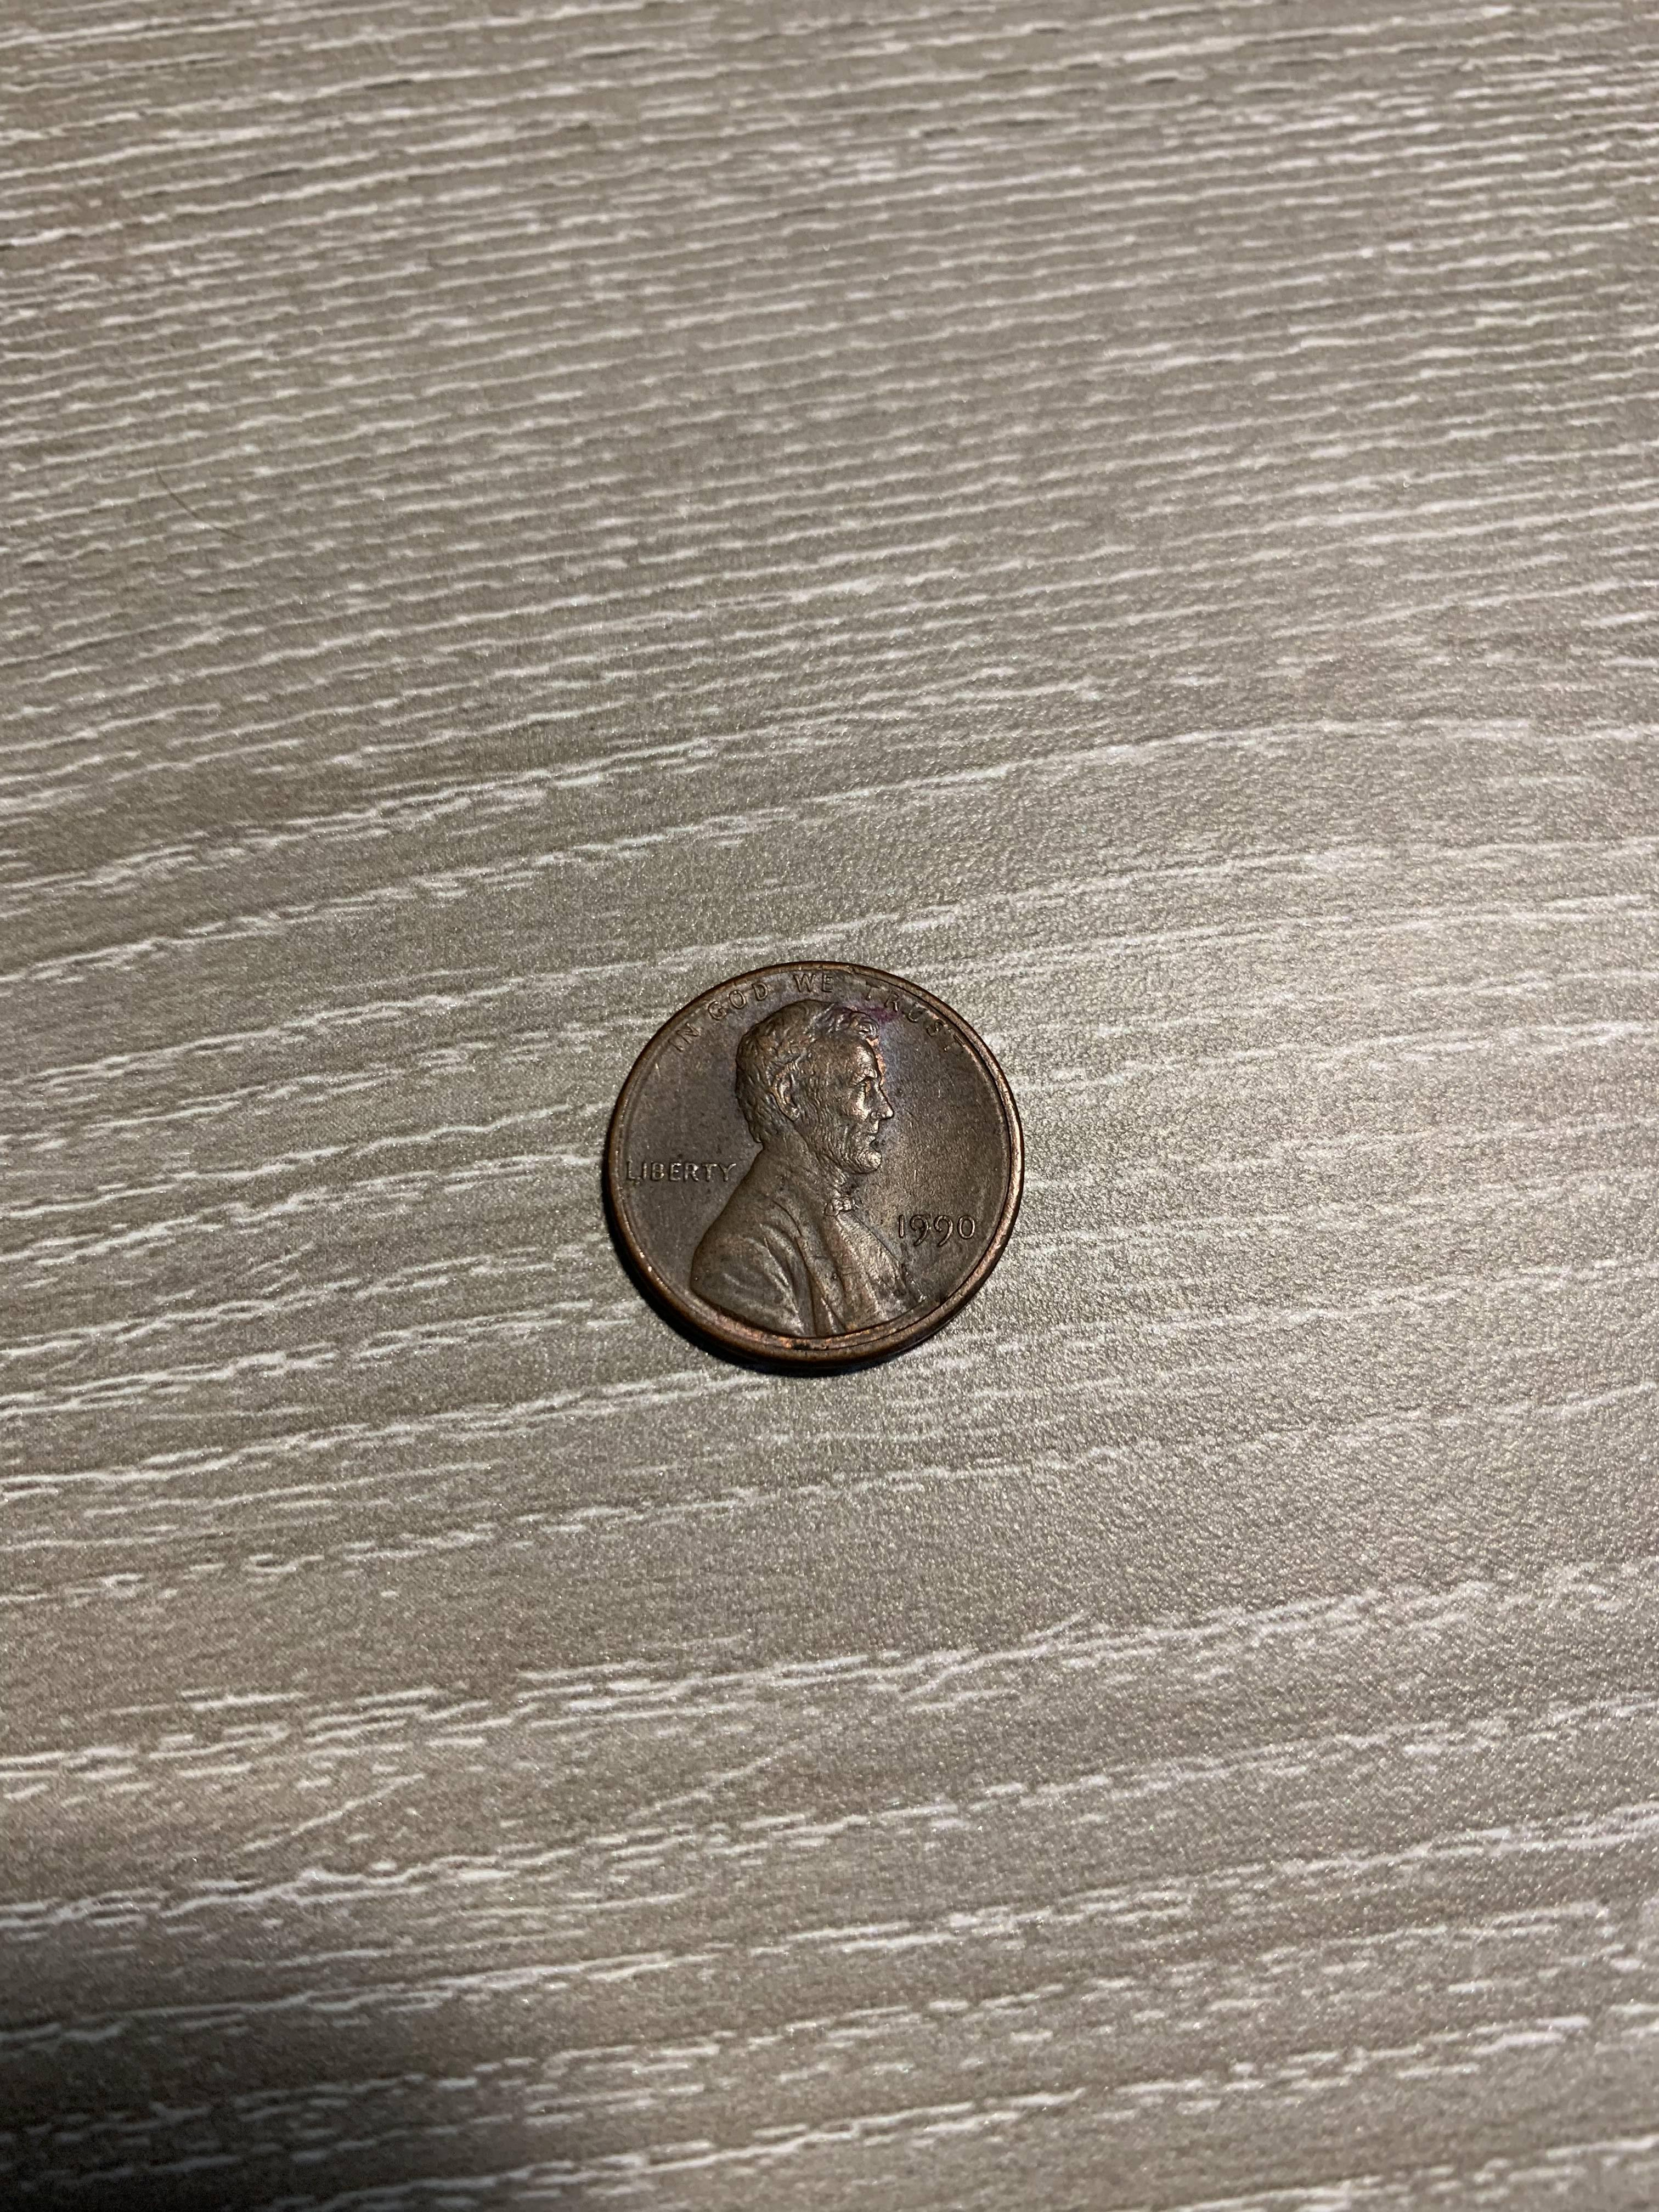Penny: (587, 954, 1046, 1379)
